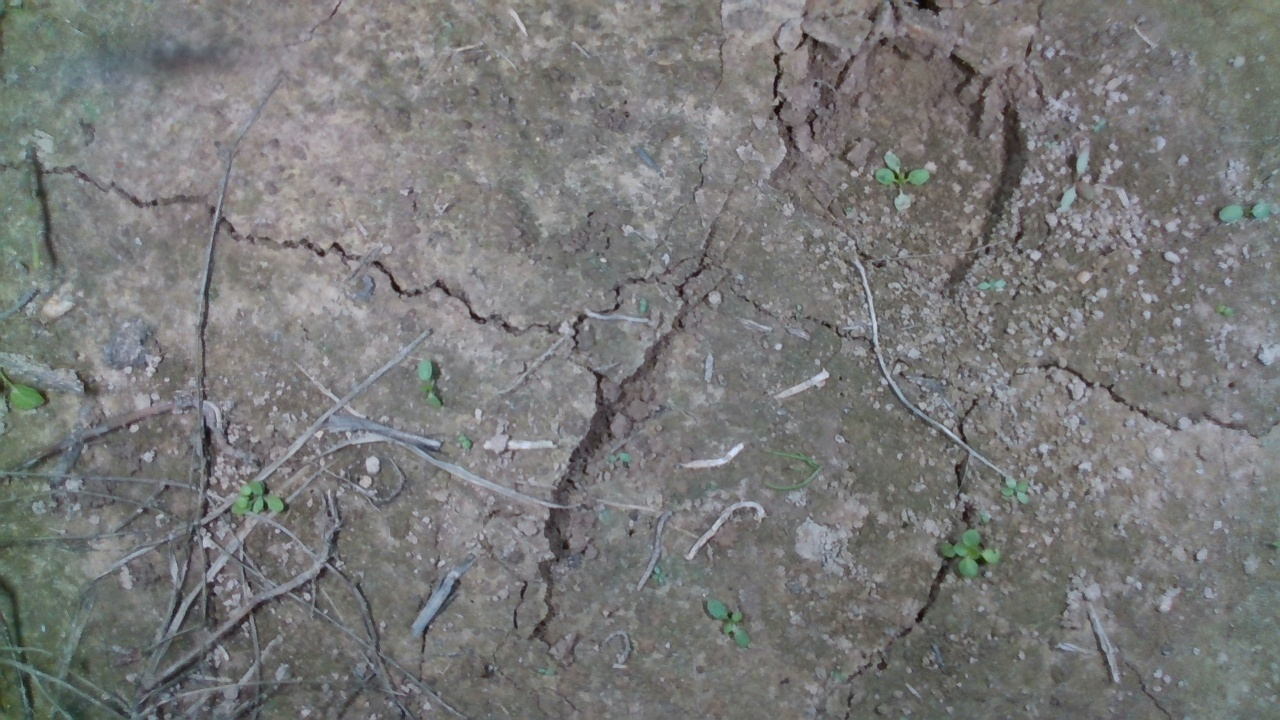weed: (872, 149, 931, 211), (705, 596, 751, 649), (416, 358, 442, 411), (1216, 199, 1273, 223), (998, 473, 1033, 505), (458, 432, 473, 451)
